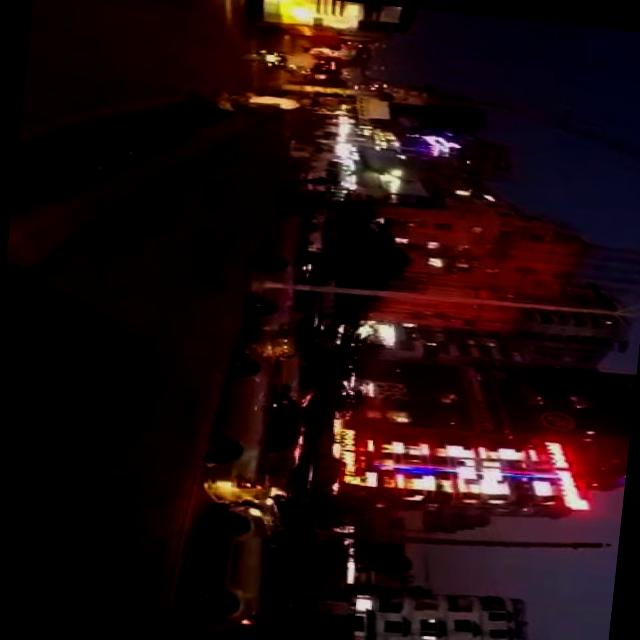bus: (259, 0, 418, 51), (310, 38, 378, 70)
car: (204, 352, 314, 512), (200, 505, 304, 633), (243, 257, 327, 367), (237, 499, 306, 552), (279, 348, 322, 406)
motorcycle: (238, 46, 294, 72)
